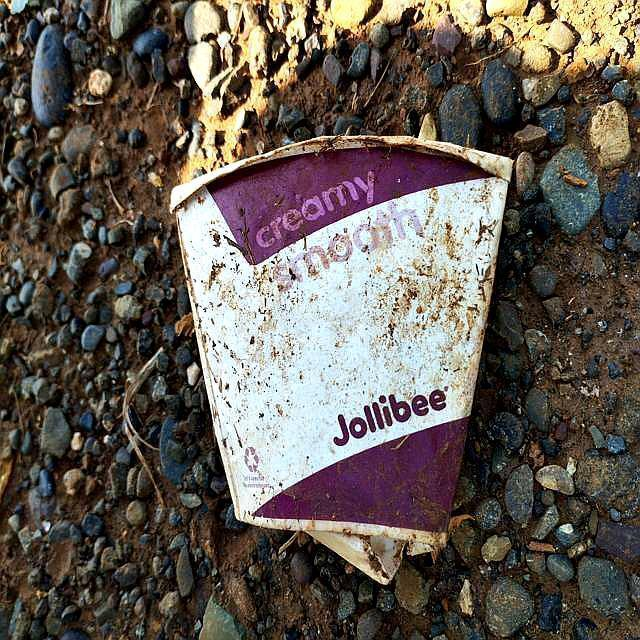Biodegradable: (169, 135, 515, 555)
